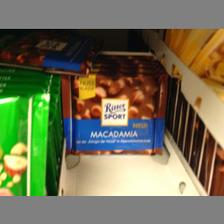Schokolade: (61, 73, 166, 157)
